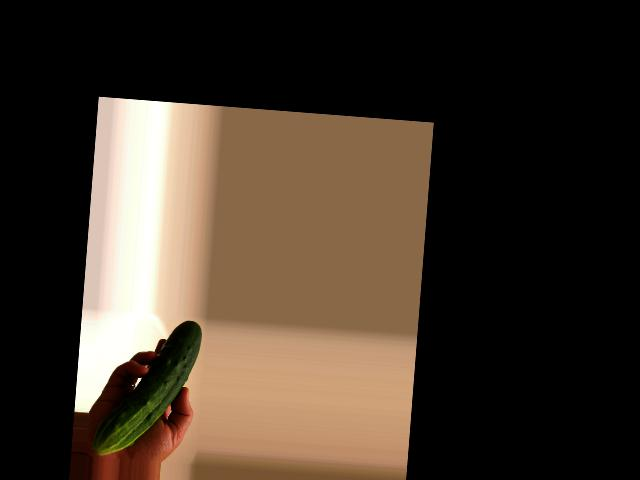cucumber: (91, 313, 202, 461)
